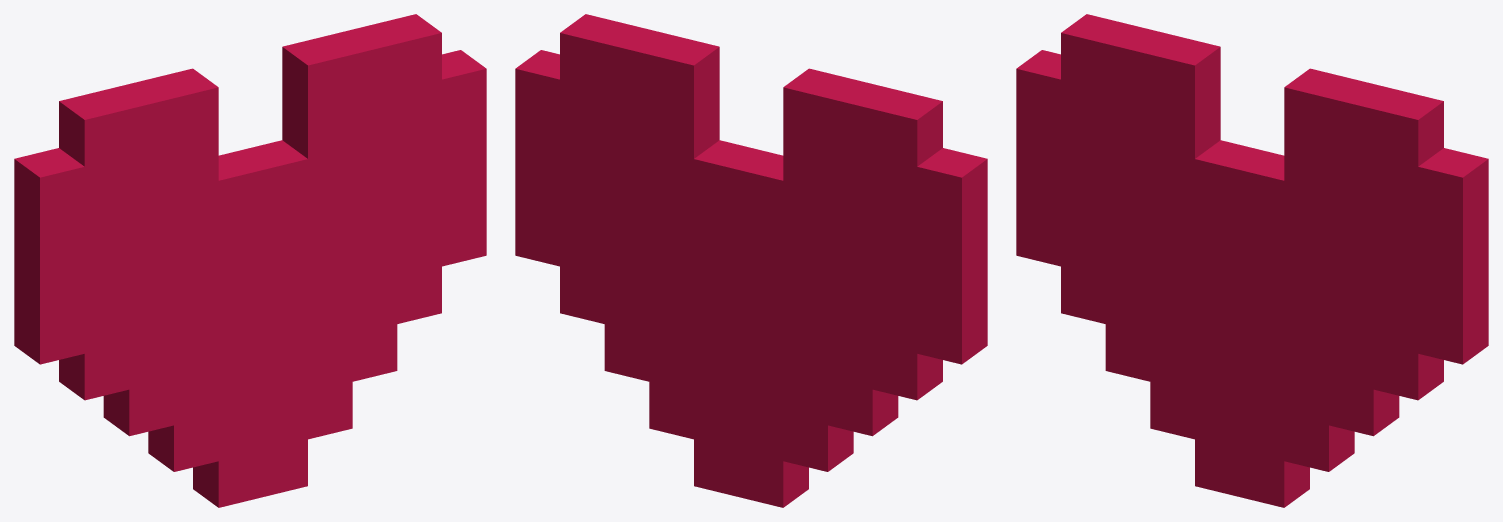
The model's file is GGJ zombie heart.obj.
The picture shows the model from 3 angles, left to right: view 1: azimuth 30°, elevation 25°; view 2: azimuth 150°, elevation 25°; view 3: azimuth 330°, elevation 25°; orthographic projection.
Bounding box in the file's own units: 1 × 0.9 × 0.1.
1 material, 1 textured.
